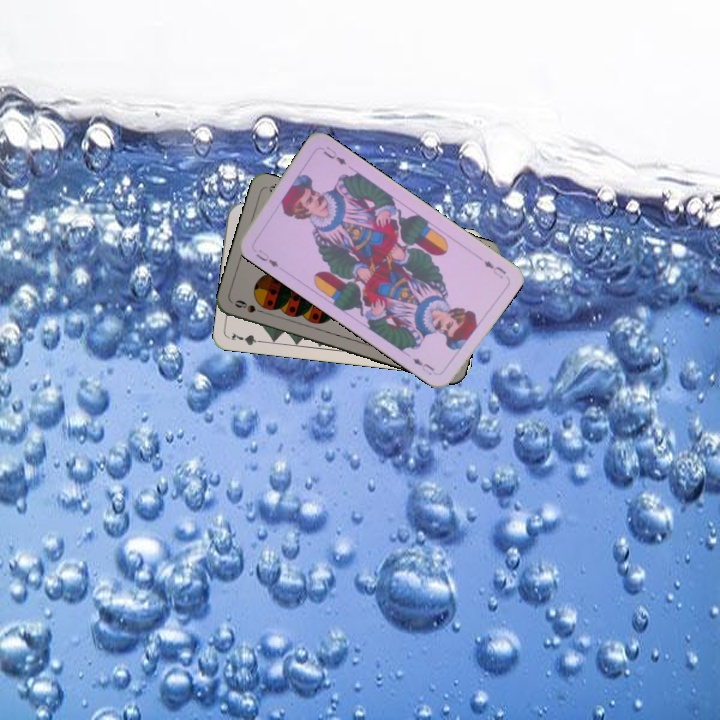EU: (252, 245, 281, 270), (480, 257, 509, 281)
G7: (227, 328, 268, 348)
S9: (230, 296, 270, 317)
